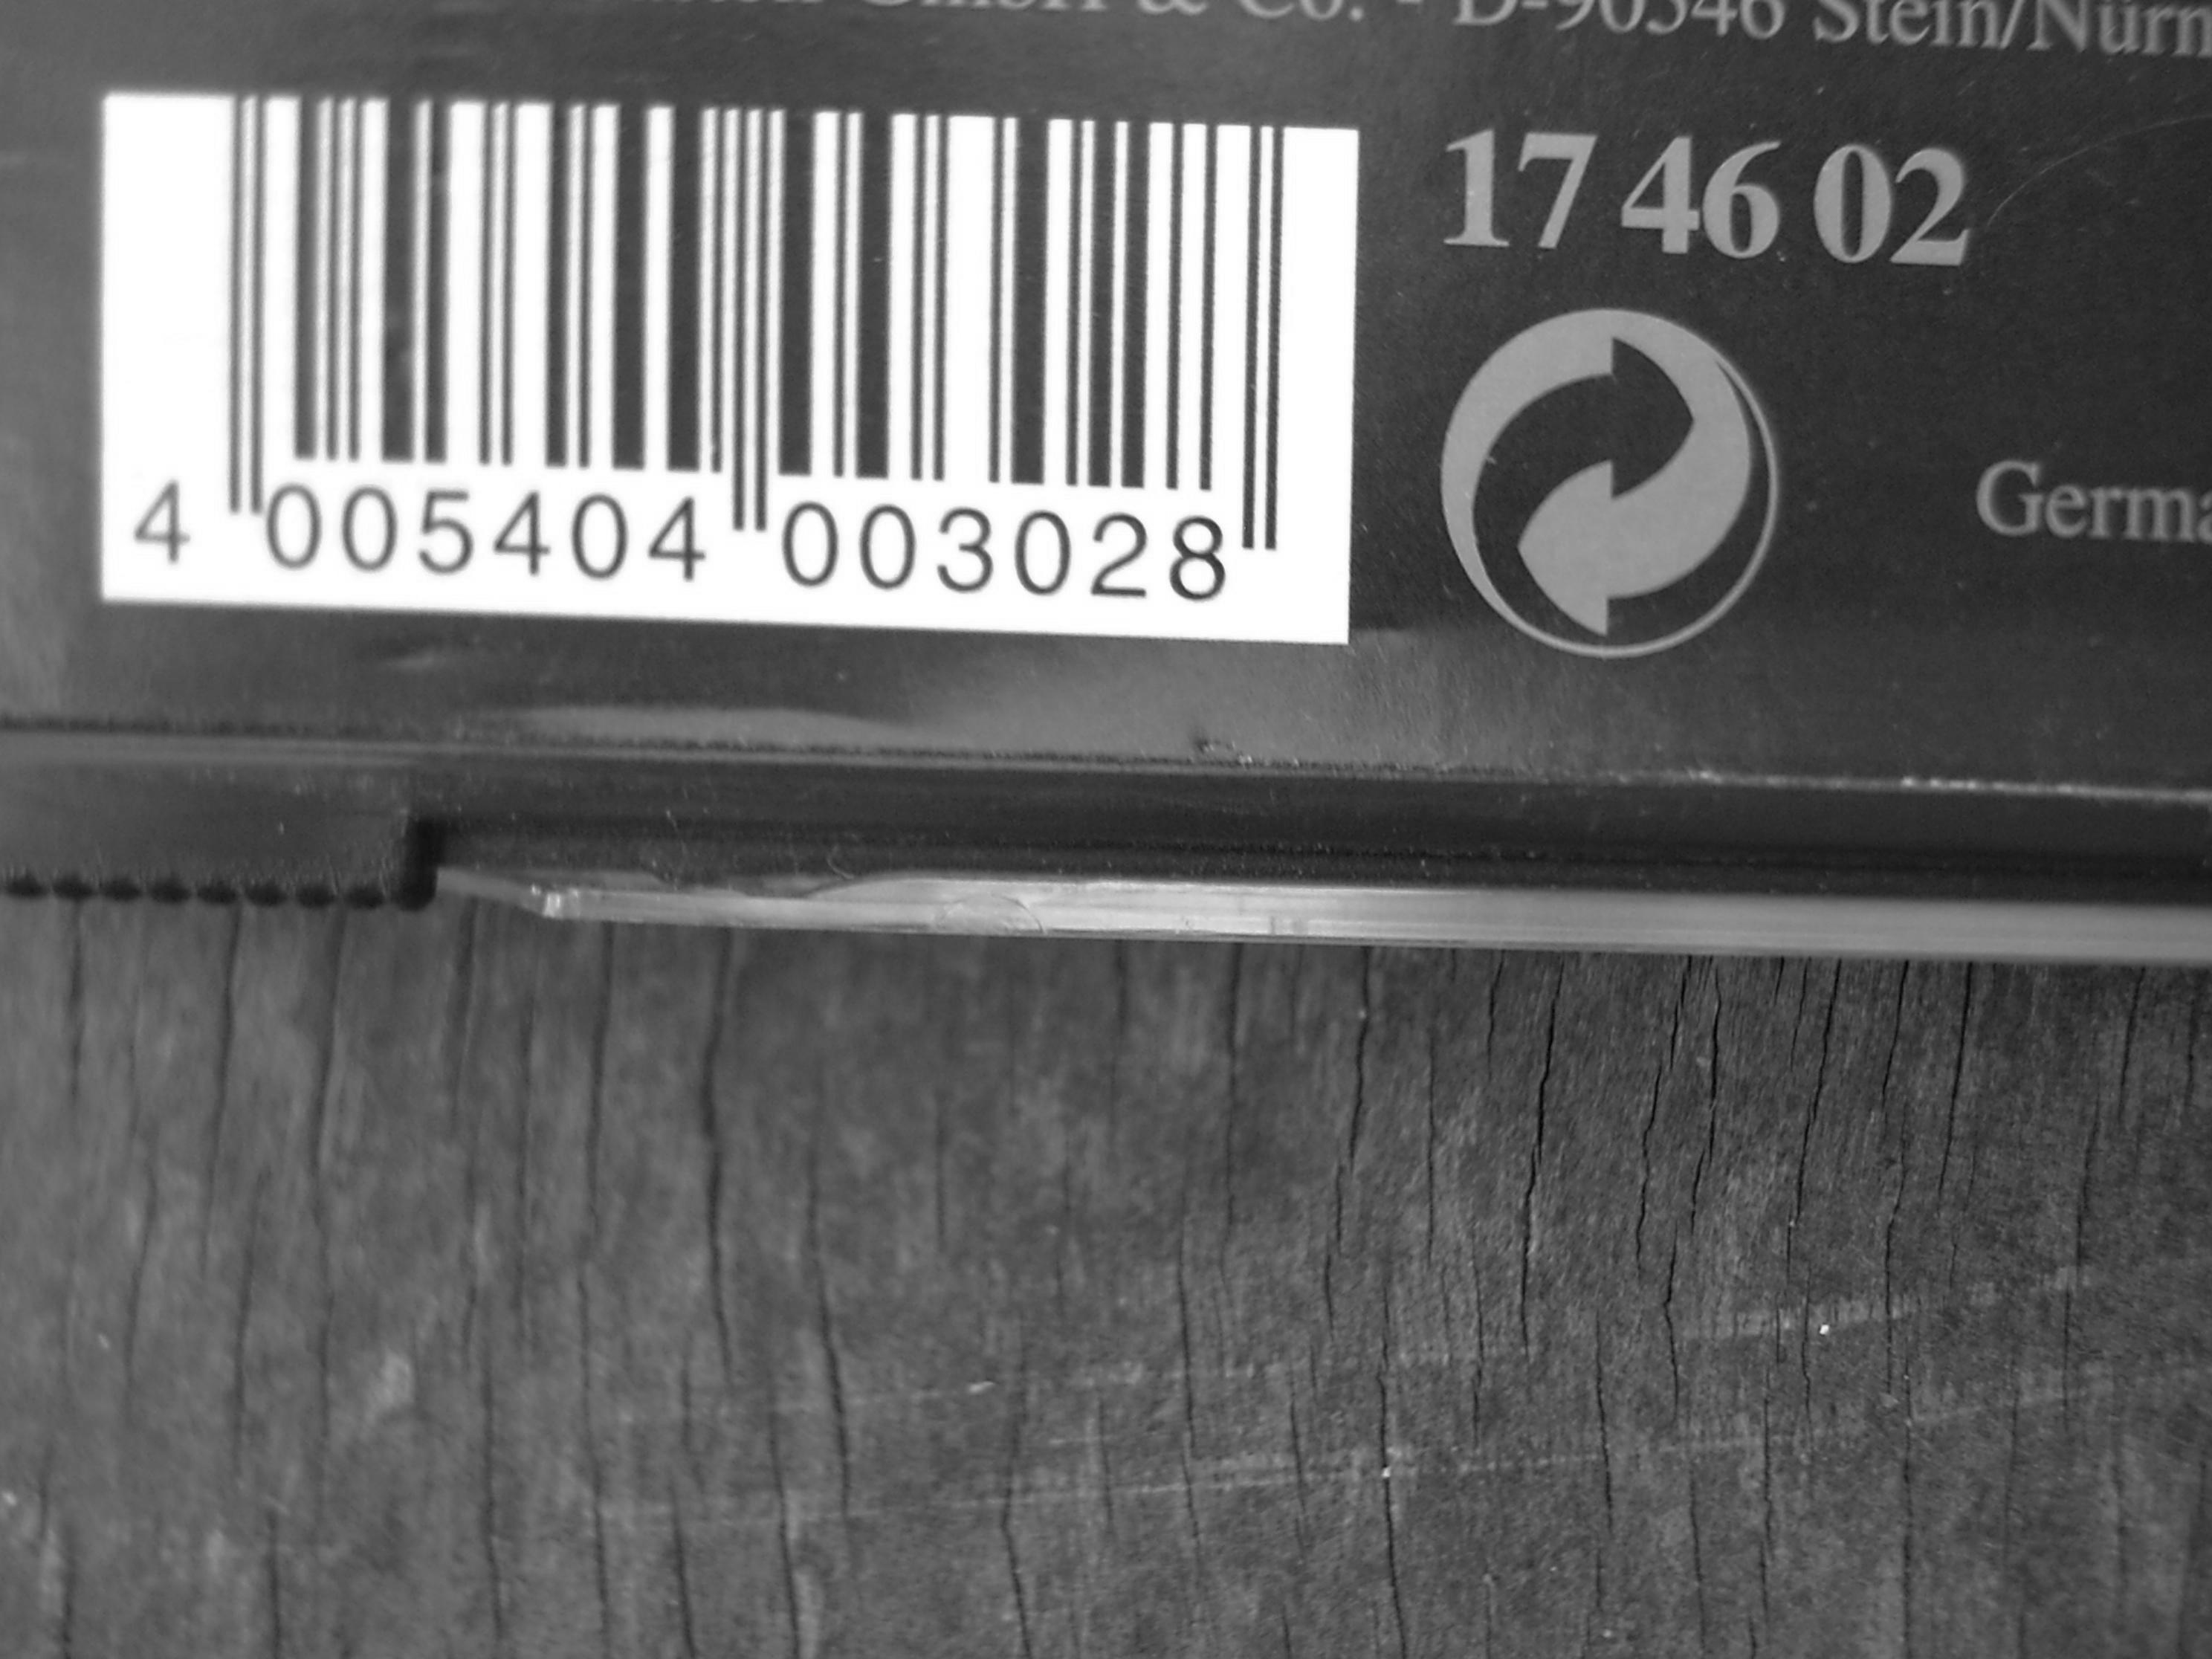Barcode: (173, 98, 1299, 602)
